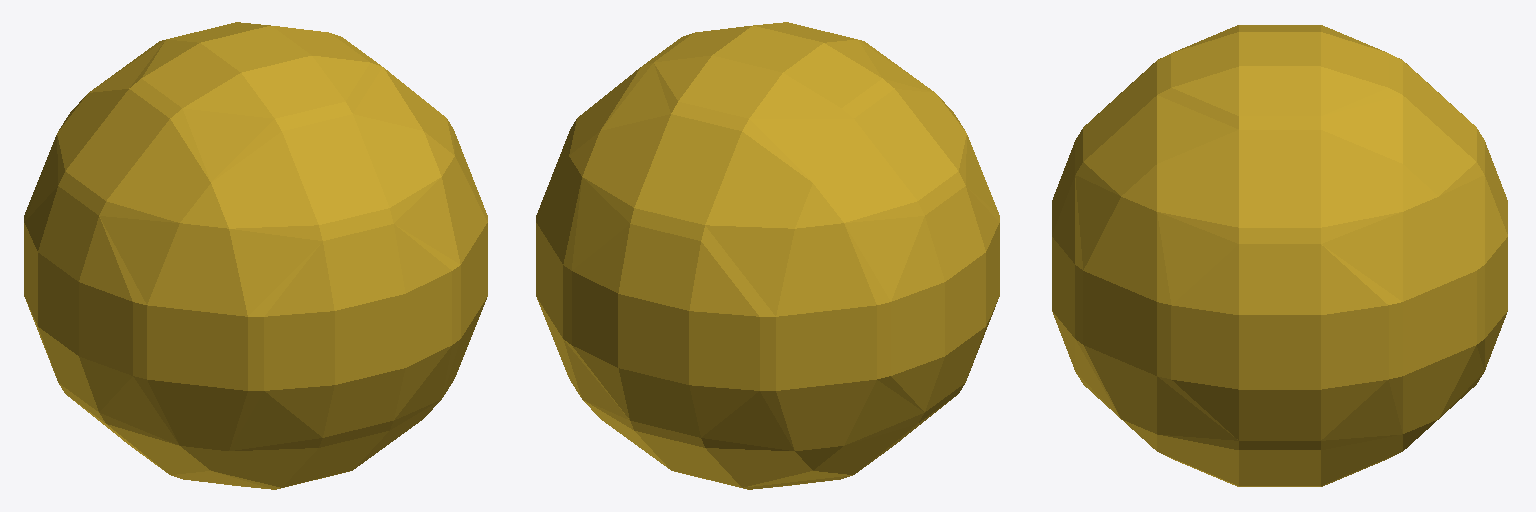
3 renders of one model, left to right at view 1: azimuth 30°, elevation 25°; view 2: azimuth 150°, elevation 25°; view 3: azimuth 270°, elevation 25°, orthographic.
Visible parts, largest first — view 1: Mball; view 2: Mball; view 3: Mball.
Boxes of the visible parts, x1=… form: Mball: x1=24, y1=22, x2=487, y2=489; Mball: x1=536, y1=22, x2=999, y2=489; Mball: x1=1052, y1=25, x2=1507, y2=486.
Size of the model in its own units: 2.23 by 2.23 by 2.23.